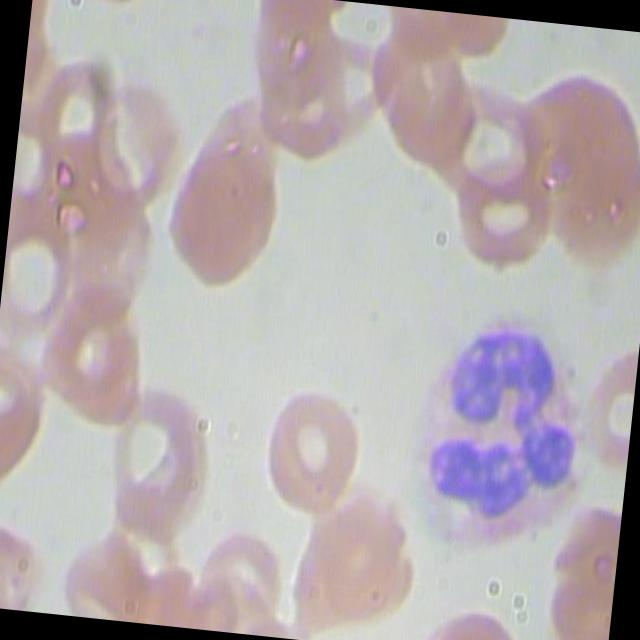RBC: (158, 85, 296, 291), (100, 362, 230, 548), (249, 370, 380, 527), (434, 55, 564, 208), (359, 18, 488, 172), (88, 51, 202, 216), (32, 255, 146, 413), (448, 143, 570, 275), (298, 486, 420, 618), (182, 514, 302, 637), (18, 31, 122, 168), (0, 179, 80, 346), (54, 512, 164, 623), (184, 523, 294, 634)
WBC: (380, 285, 613, 569)
